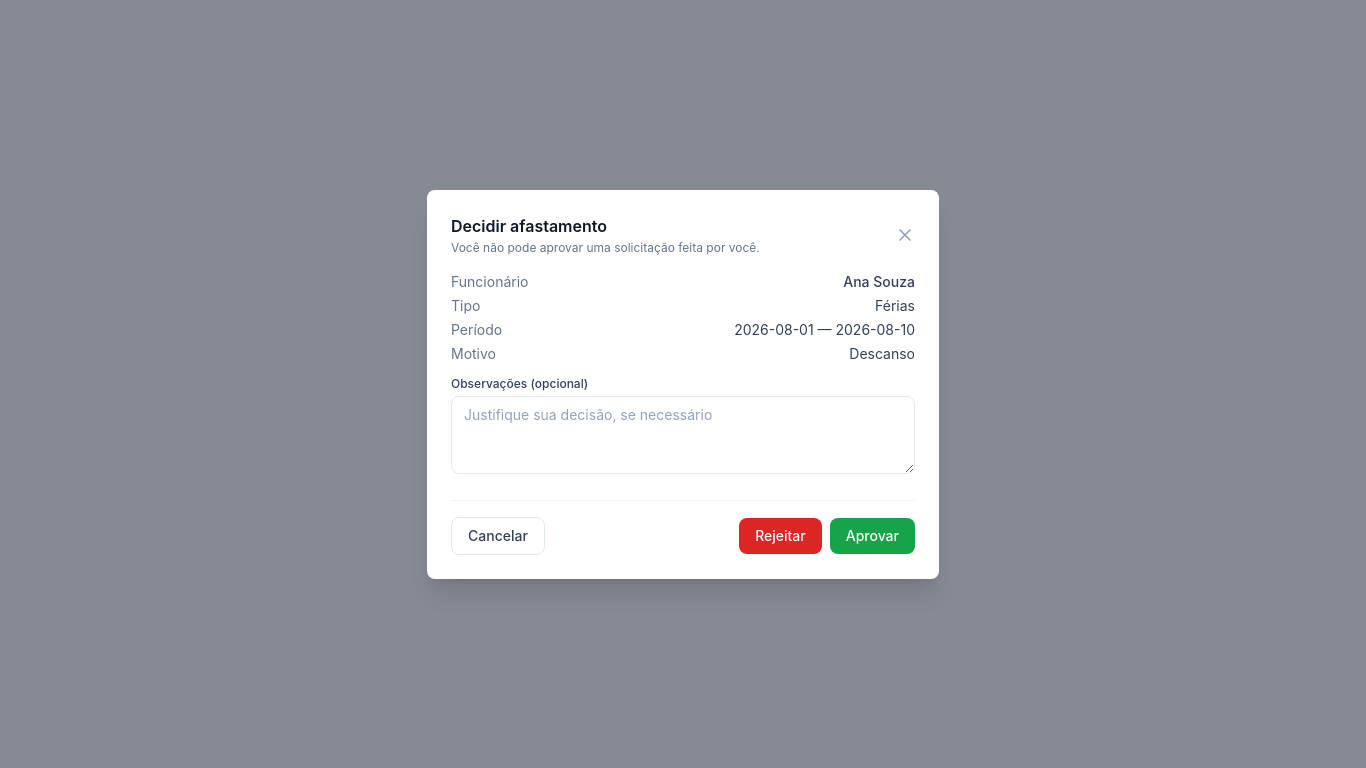
it: LeaveDecideModal › surfaces the self-approval-blocked server error
Click the button "Aprovar".
click(872, 536)  # box [830,518,915,554]
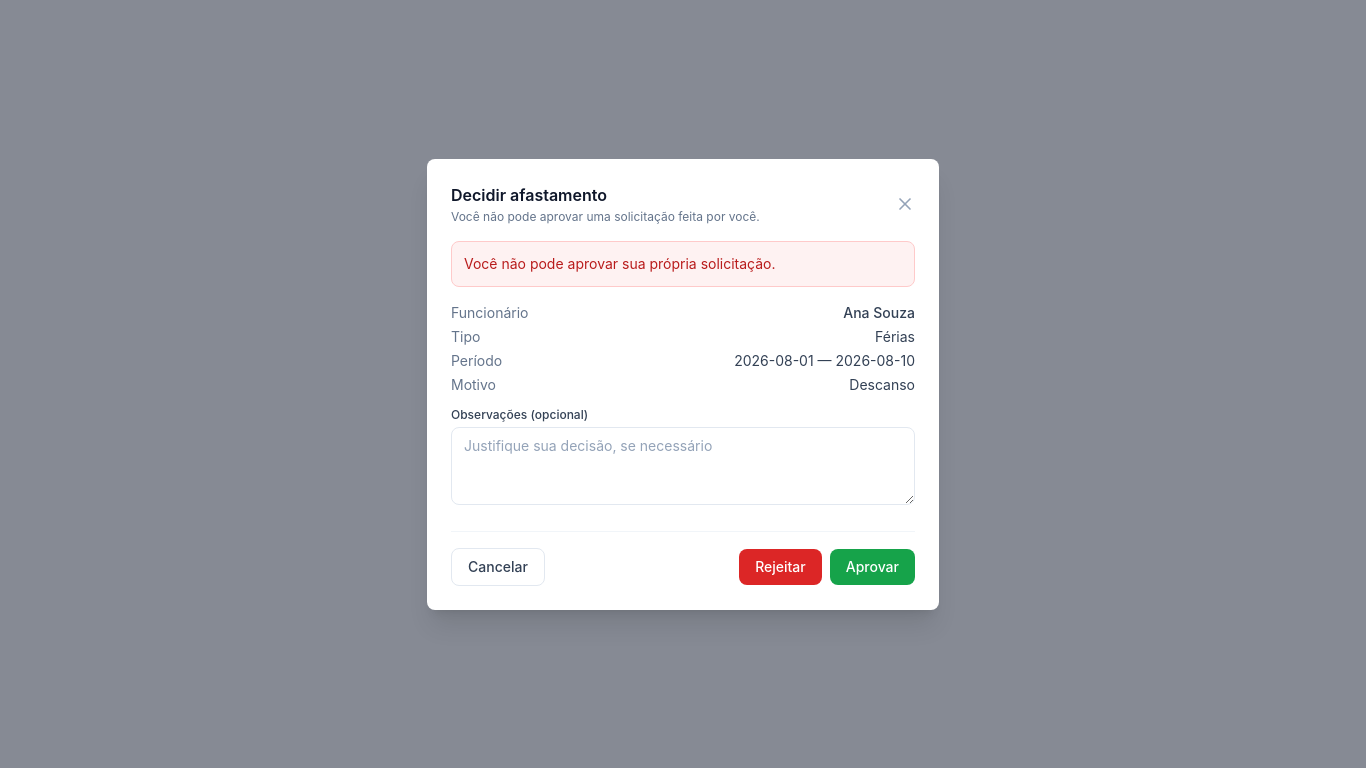
Check: the text "Você não pode aprovar sua própria solicitação." is shown, box [464,254,776,272]
